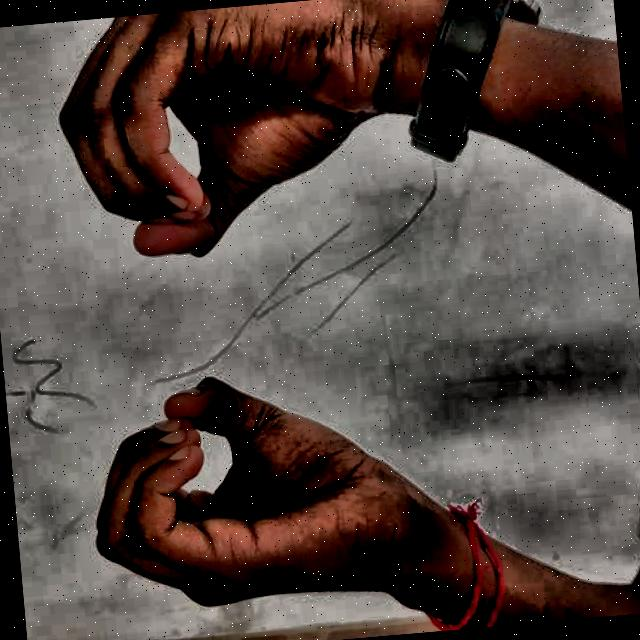Bisharga: (15, 0, 450, 640)
